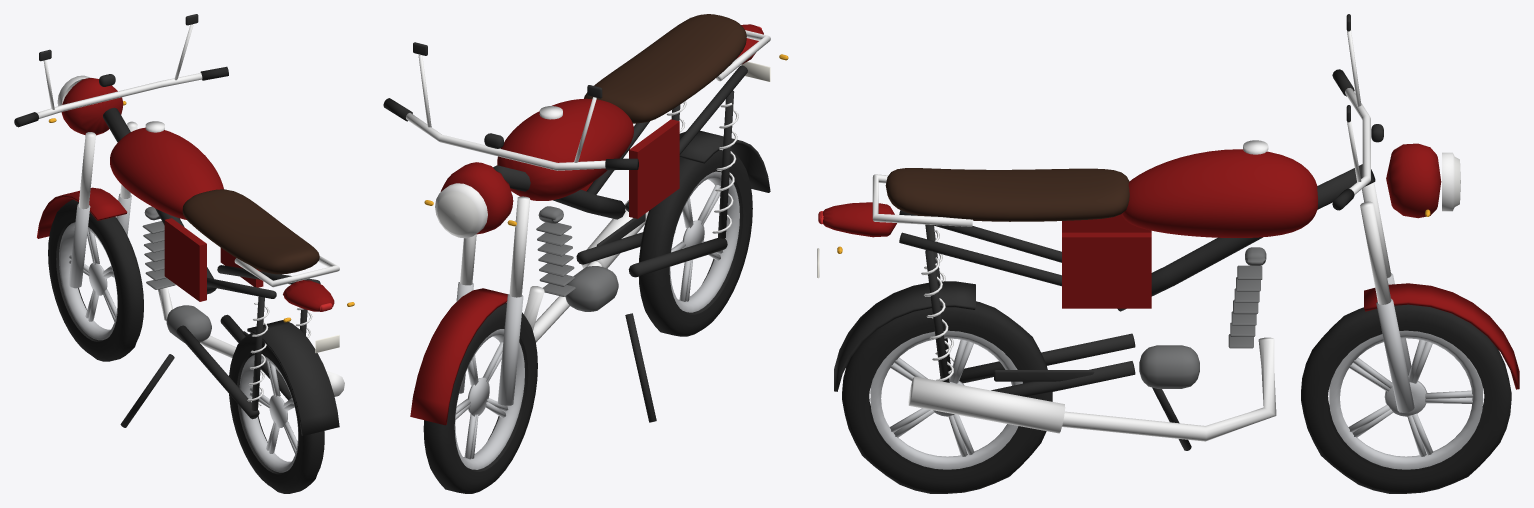
Rendered from bike_1.glb.
3 renders of one model, left to right at view 1: azimuth 30°, elevation 25°; view 2: azimuth 150°, elevation 25°; view 3: azimuth 270°, elevation 25°, orthographic. The views are drawn at different scales.
Visible parts, largest first — view 1: body, wheel_0, wheel_1; view 2: body, wheel_1, wheel_0; view 3: body, wheel_0, wheel_1.
Boxes of the visible parts, box(x1,y1,x2,y2) form: body: box(14, 14, 354, 435); wheel_0: box(48, 199, 143, 361); wheel_1: box(229, 333, 324, 493); body: box(383, 14, 788, 425); wheel_1: box(639, 148, 752, 336); wheel_0: box(423, 303, 537, 493); body: box(817, 14, 1519, 450); wheel_0: box(1301, 304, 1511, 493); wheel_1: box(842, 301, 1052, 493).
Bounding box in the file's own units: 0.8708 × 1.32 × 1.96.
